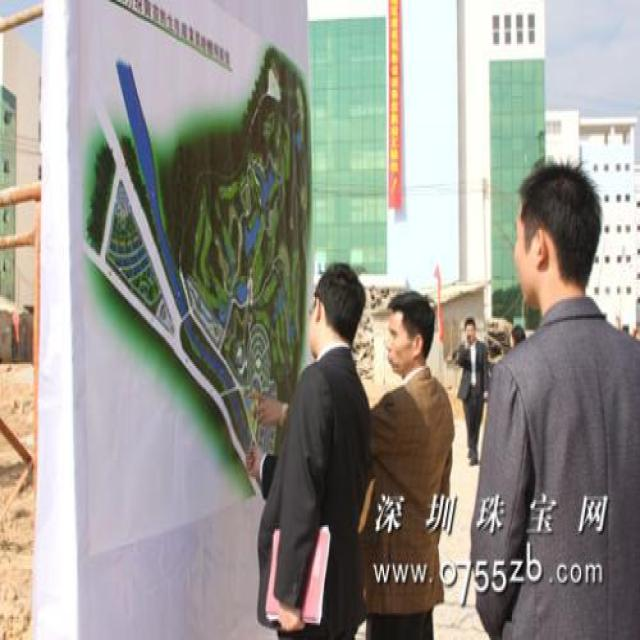head: (504, 161, 613, 320), (306, 259, 371, 366), (385, 282, 439, 383), (462, 312, 479, 341)
